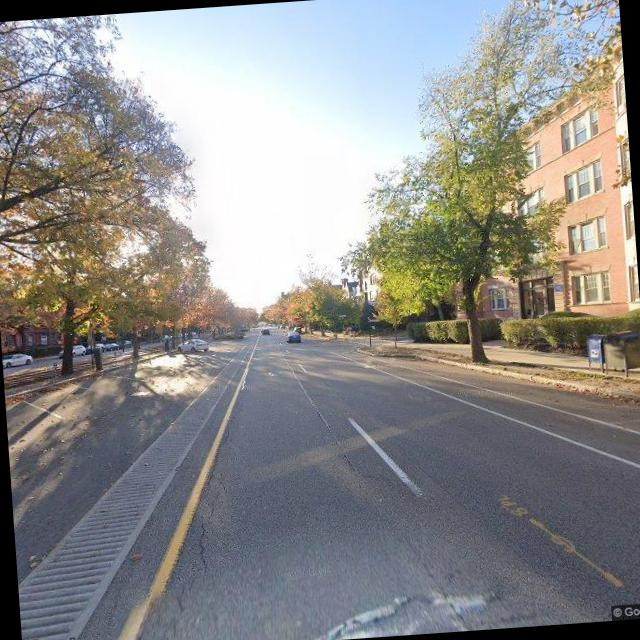pothole: (186, 464, 233, 574)
